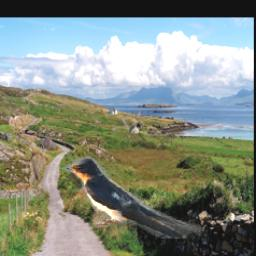Swallow: (62, 155, 203, 240)
